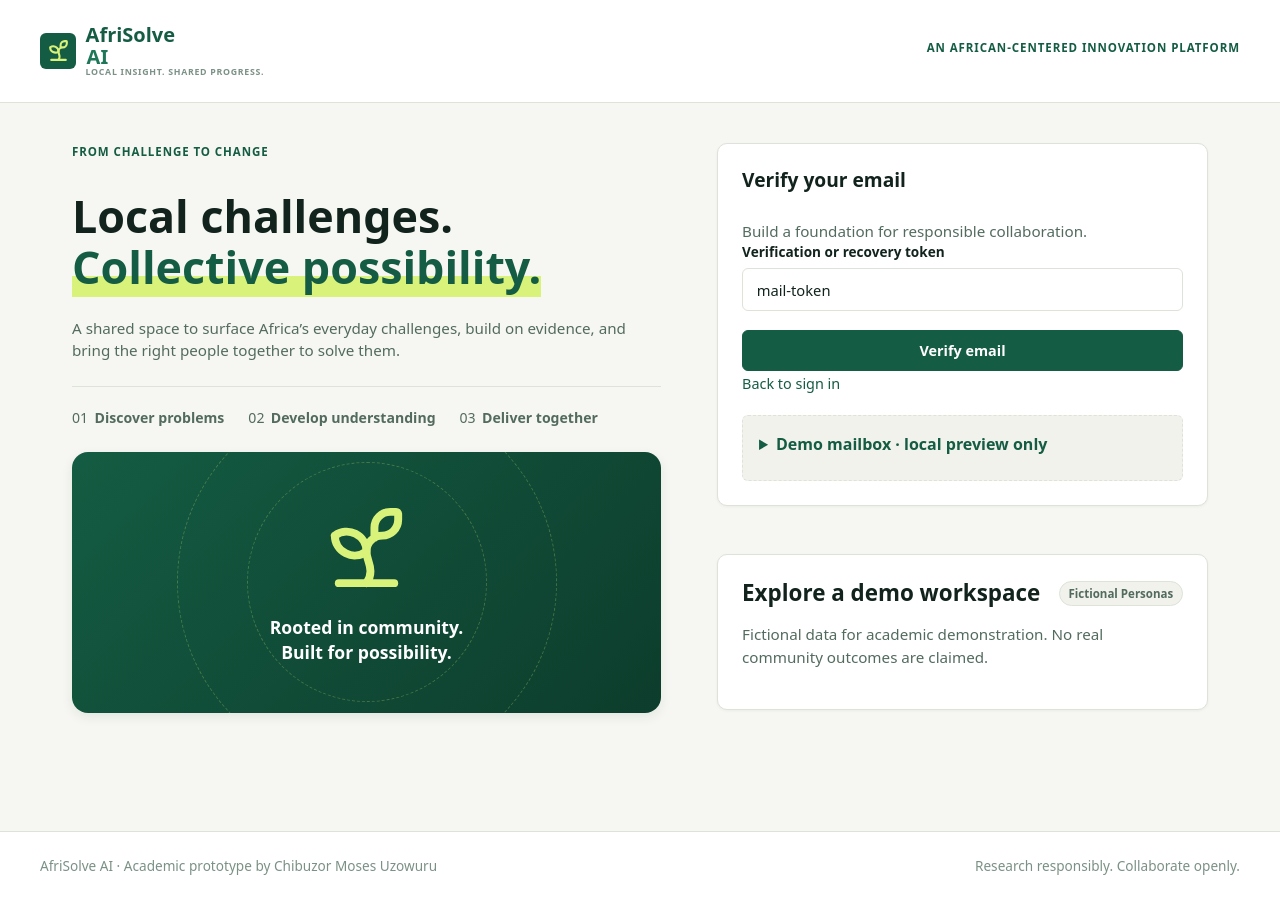
it: email verification opens directly from the backend root query link
The image size is (1280, 900).
Check: the heading "Verify your email" is shown, box [742,168,906,192]
Click the button "Verify email". click: click(963, 350)
box: [742,330,1183,371]
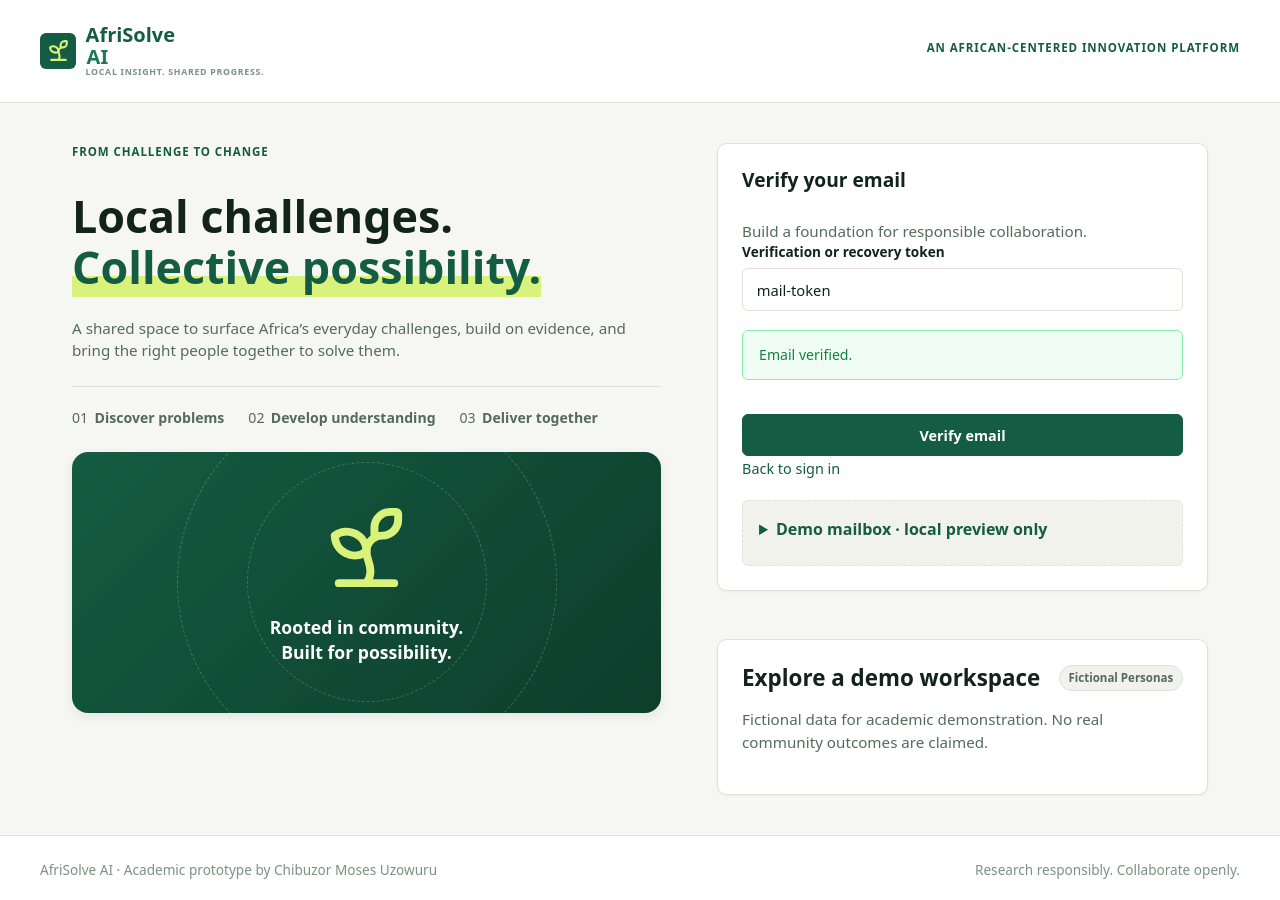
Check: the text "Email verified." is shown, box [742,330,1183,380]
